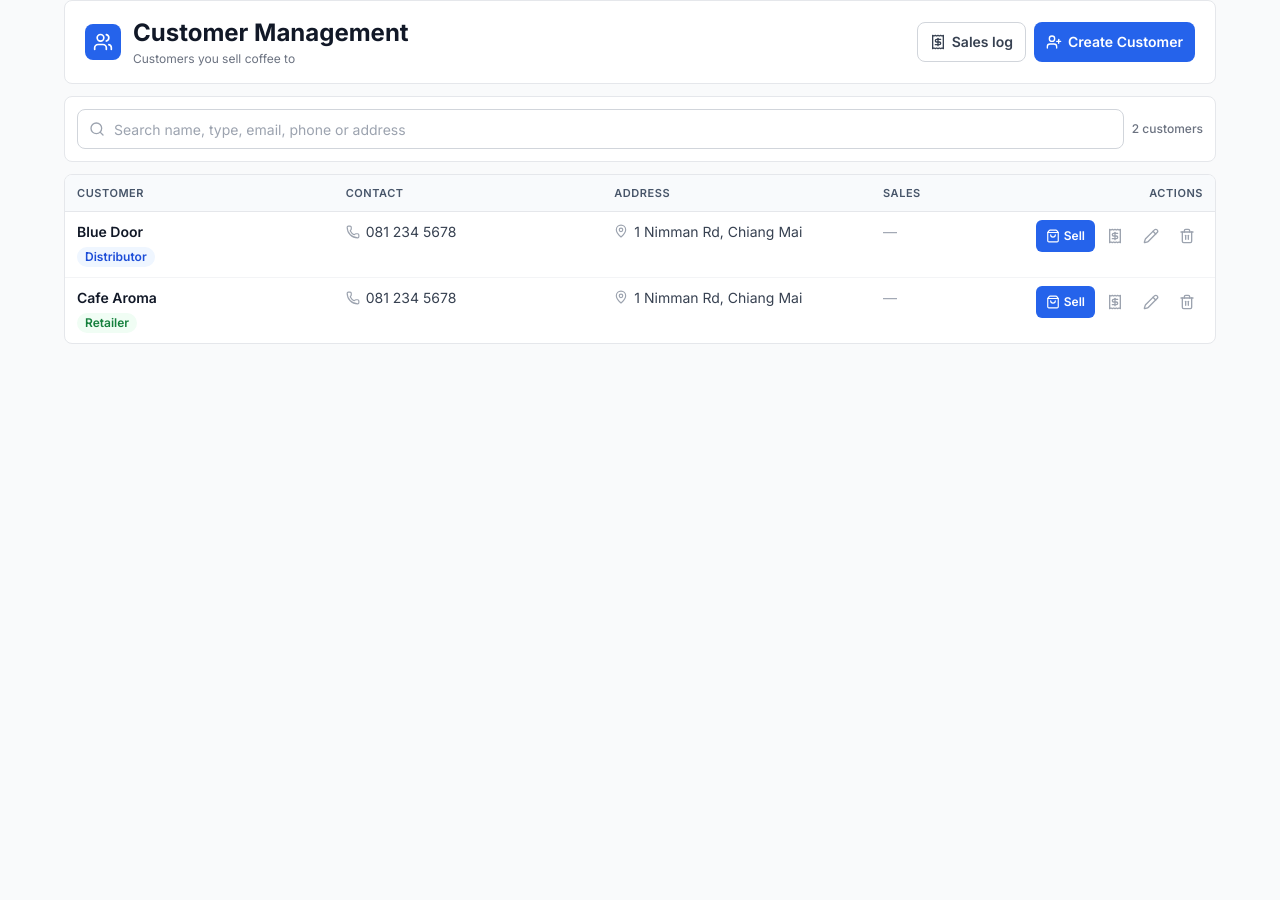
Scenario: CustomerManagement › brings the app data up to date with the list it shows, so Sell finds the customer
Click the button with aria-label "Sell to Blue Door". click: {"x": 1065, "y": 236}
box: [1036,220,1095,252]
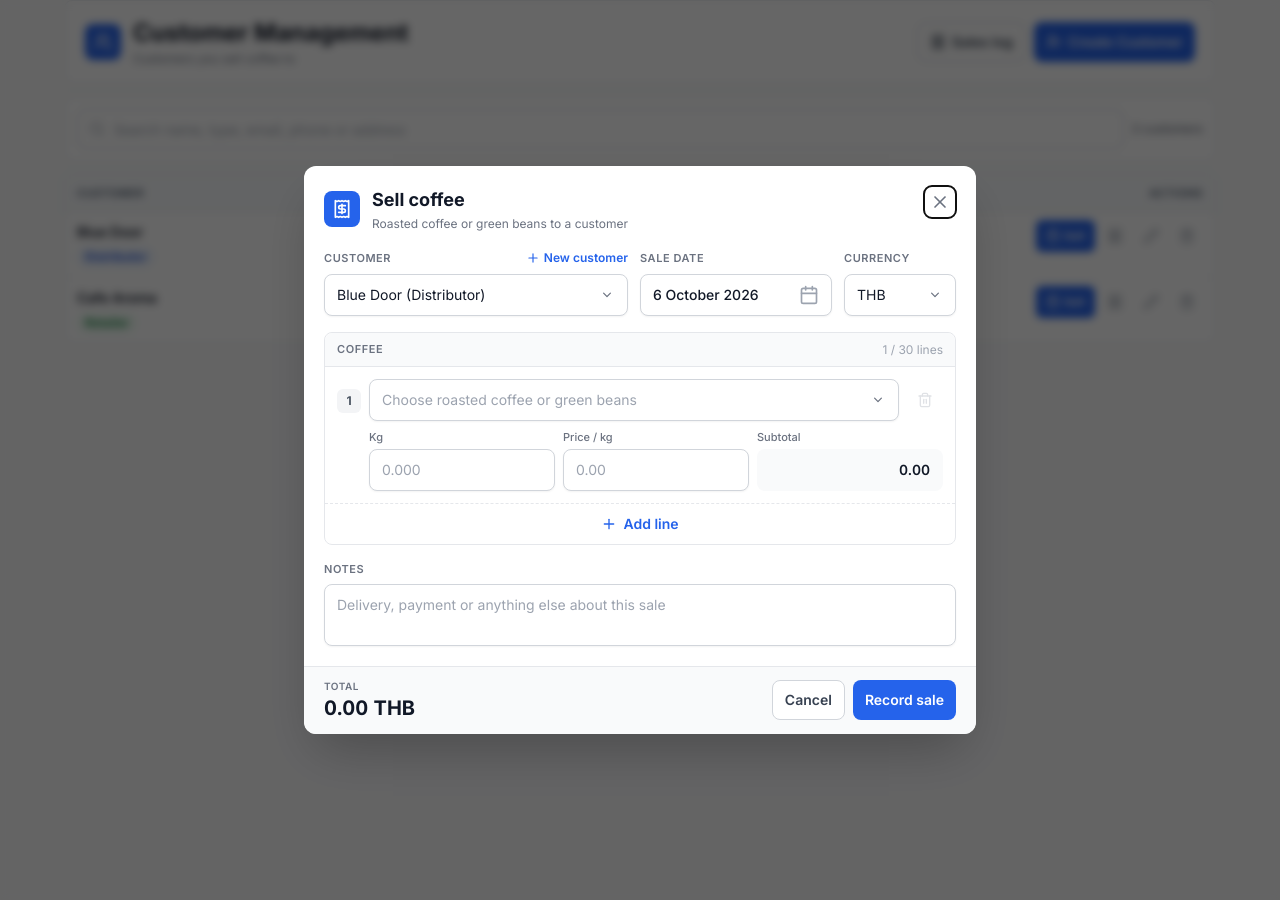
Result: the button "Blue Door (Distributor)" is shown at [324,274,628,316]
Result: the element named "Item for line 1" is shown at [369,379,899,421]
